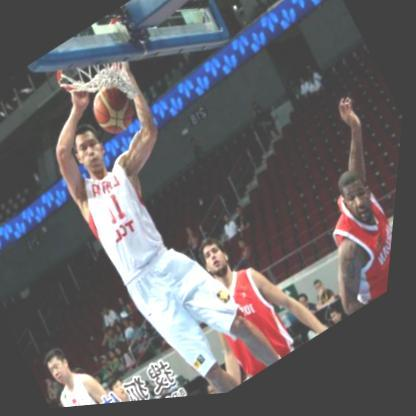basketball: (85, 79, 147, 146)
